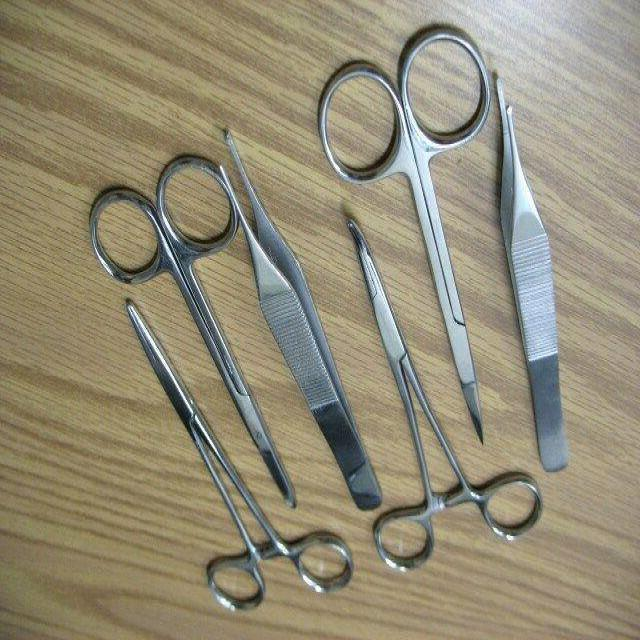Forceps: (214, 124, 385, 516), (491, 71, 571, 478)
Hemostat: (123, 298, 356, 618), (342, 210, 545, 576)
Iris: (313, 22, 493, 446)
Mayo_metz: (85, 151, 299, 514)
